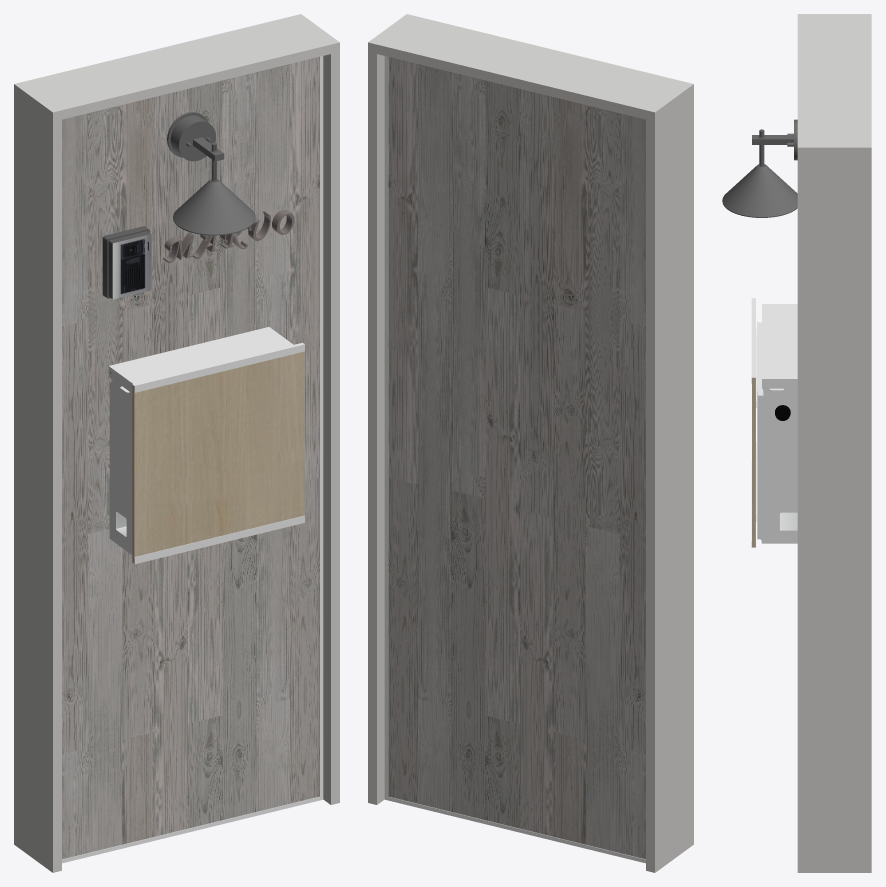
The model's file is 640-1620_woodtopegray.fbx.
The picture shows the model from 3 angles, left to right: view 1: azimuth 30°, elevation 25°; view 2: azimuth 150°, elevation 25°; view 3: azimuth 270°, elevation 25°; orthographic projection. The views are drawn at different scales.
Visible parts, largest first — view 1: 640-1620_woodtopegray; view 2: 640-1620_woodtopegray; view 3: 640-1620_woodtopegray.
Part boxes in pixels (<box>): 640-1620_woodtopegray: <box>14,14,339,872</box>; 640-1620_woodtopegray: <box>368,14,693,872</box>; 640-1620_woodtopegray: <box>722,14,871,872</box>.
Size of the model in its own units: 64 by 162 by 30.22.
Materials: 14 (5 with a texture image).
